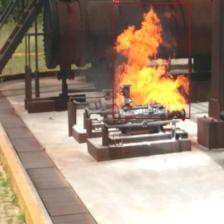fire: (113, 2, 190, 119)
